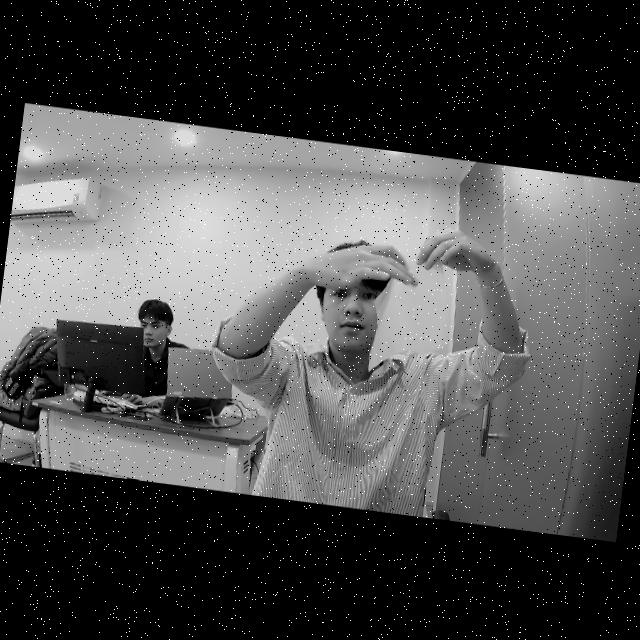face: (312, 242, 389, 361), (132, 296, 183, 362)
